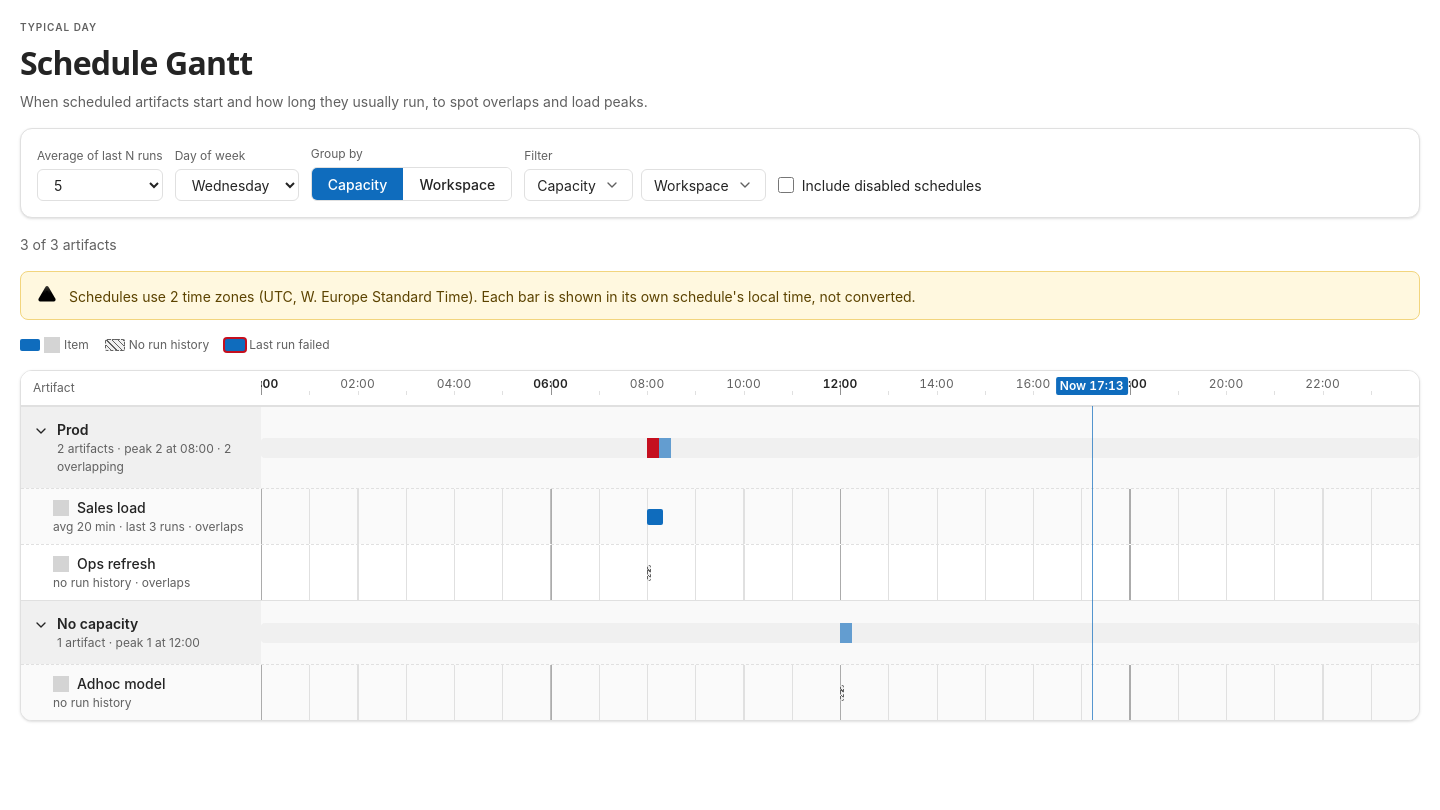
Test case: GanttView › collapses a group from its header
What coordinates should you click on to do the following:
click the button "Prod 2 artifacts · peak 2 at 08:00 · 2 overlapping"
I would click on:
 (141, 448)
Its box is [21,407,261,488].
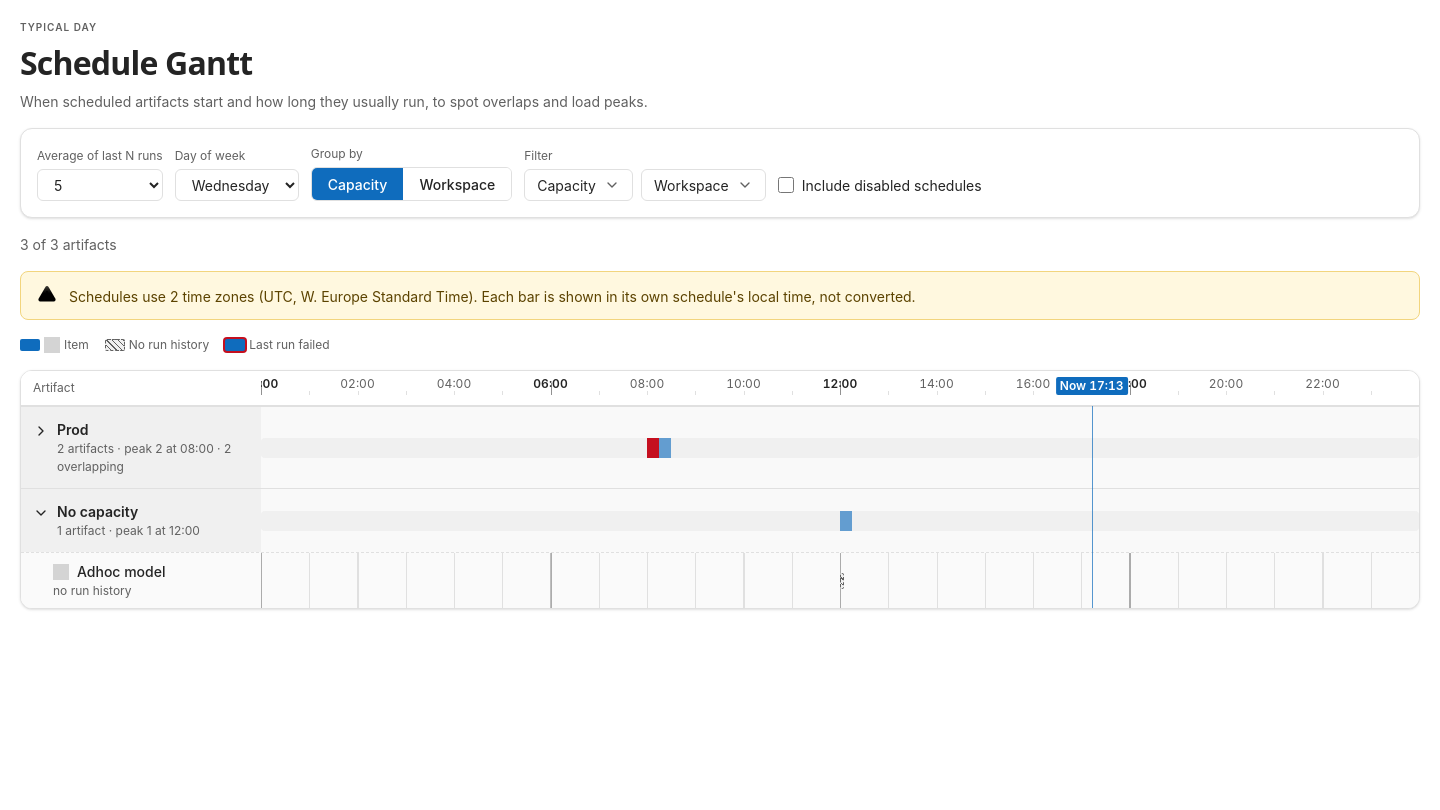
Result: the button "Prod 2 artifacts · peak 2 at 08:00 · 2 overlapping" is collapsed at [21,407,261,488]
Result: the text "Sales load" is gone
